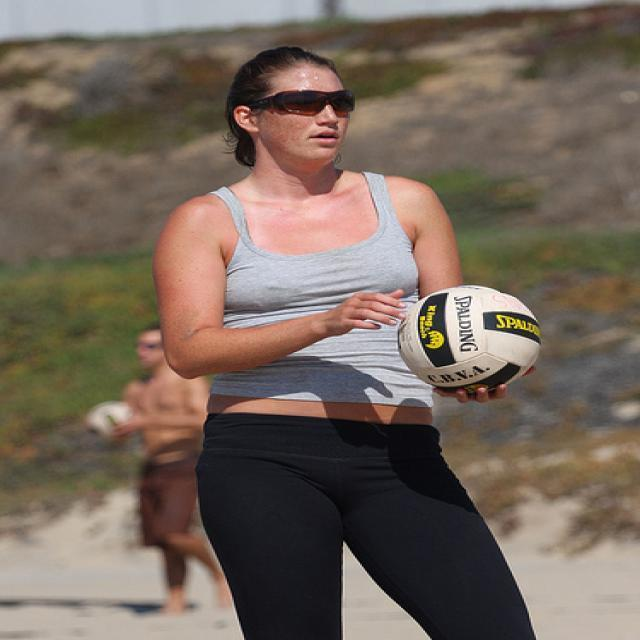volleyball: (400, 286, 542, 390)
